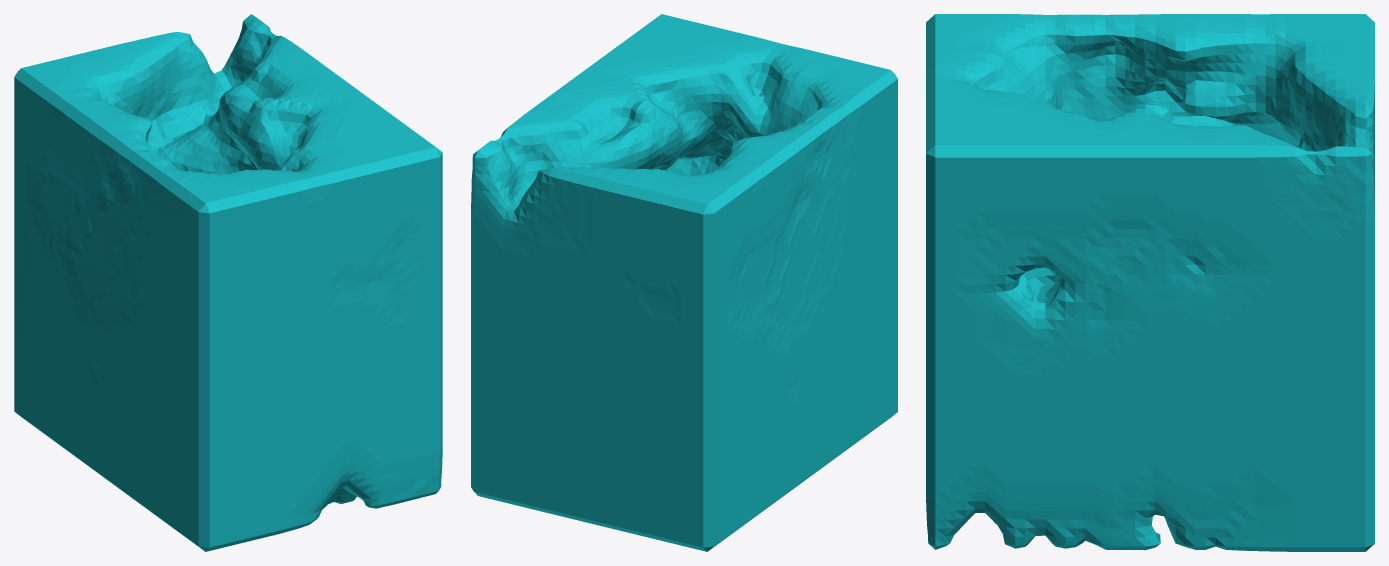
The picture shows the model from 3 angles, left to right: view 1: azimuth 30°, elevation 25°; view 2: azimuth 150°, elevation 25°; view 3: azimuth 270°, elevation 25°; orthographic projection. The views are drawn at different scales.
Parts seen in each view (by area): view 1: Liquid_Domain; view 2: Liquid_Domain; view 3: Liquid_Domain.
Boxes of the visible parts, box(x1,y1,x2,y2) form: Liquid_Domain: box(14, 14, 442, 551); Liquid_Domain: box(471, 14, 897, 551); Liquid_Domain: box(926, 14, 1374, 551).
Bounding box in the file's own units: 79.09 × 108 × 108.
